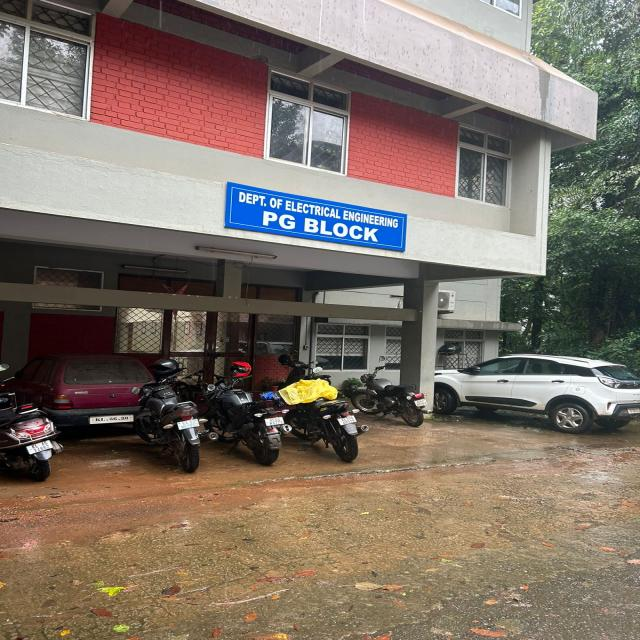car ahead at: (438, 347, 640, 428)
pillar ahead at: (397, 282, 440, 418)
